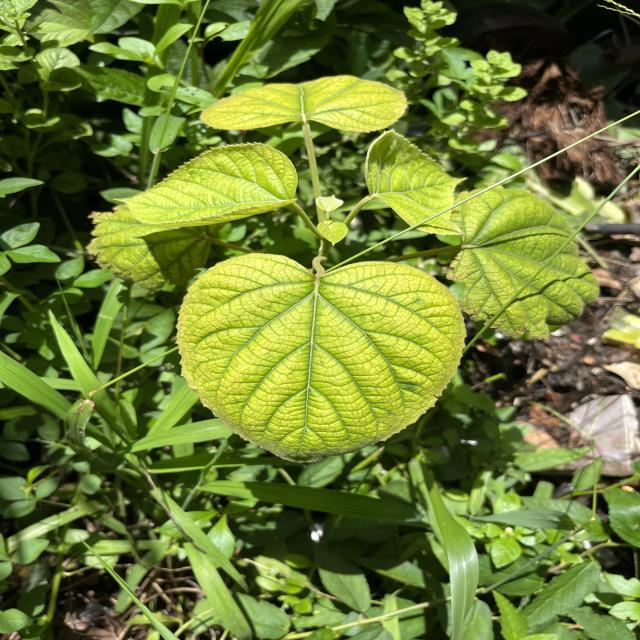Clerodendrum infortunatum: (172, 250, 467, 467), (444, 184, 602, 344), (111, 140, 299, 230), (196, 72, 410, 135), (364, 128, 468, 236)
